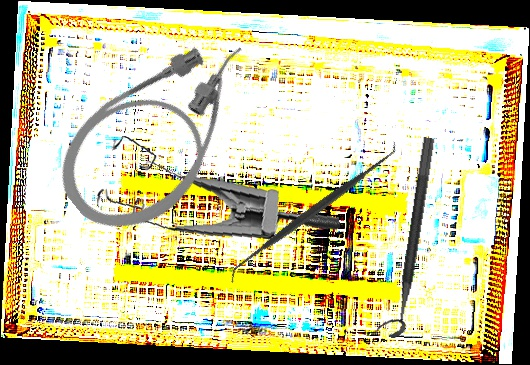Cannula: (36, 14, 292, 255)
Fixation Ring: (374, 134, 437, 340)
Spatula Surgical: (219, 139, 407, 285)
Speculum: (90, 114, 341, 257)
